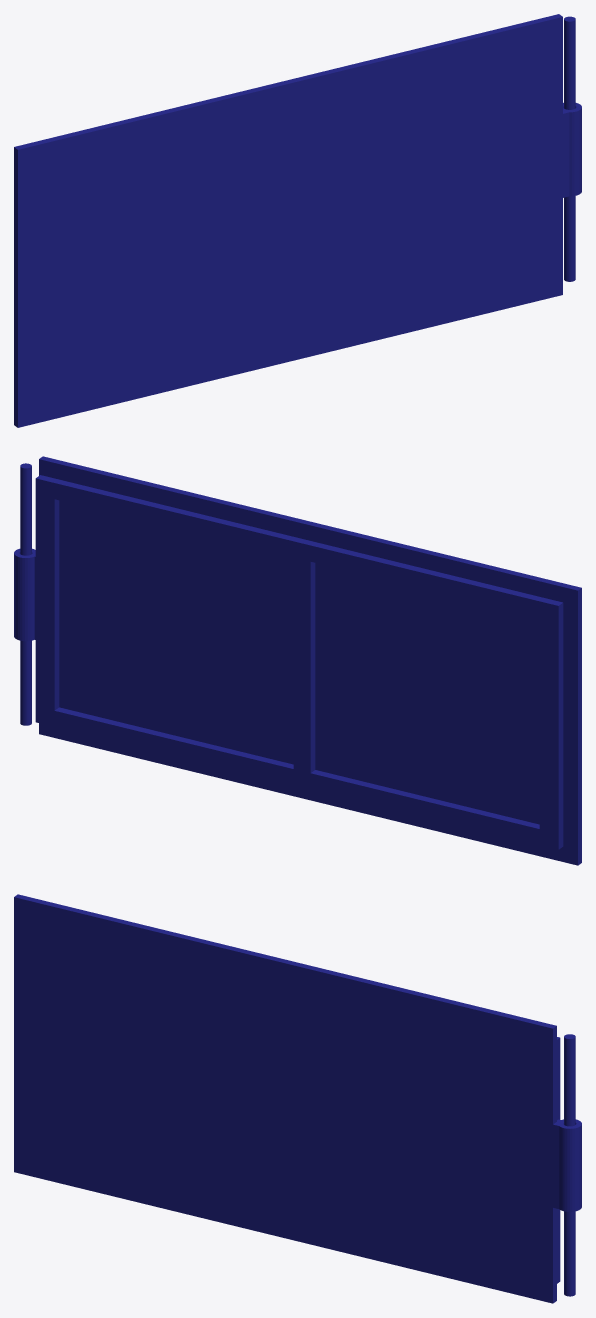
File: door_lower_right.dae
The picture shows the model from 3 angles, top to bottom: view 1: azimuth 30°, elevation 25°; view 2: azimuth 150°, elevation 25°; view 3: azimuth 330°, elevation 25°; orthographic projection.
Visible parts, largest first — view 1: door_lower_right; view 2: door_lower_right; view 3: door_lower_right.
Part boxes in pixels (x1,y1,x2,y2): door_lower_right: [14, 14, 581, 427]; door_lower_right: [14, 456, 581, 865]; door_lower_right: [14, 894, 581, 1303].
Bounding box in the file's own units: 0.1666 × 0.00619 × 0.078.
